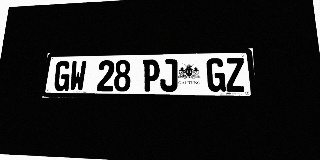2: (97, 60, 115, 91)
8: (114, 60, 131, 91)
G: (206, 58, 226, 92), (53, 61, 71, 91)
J: (160, 59, 177, 92)
P: (142, 59, 160, 91)
W: (69, 60, 87, 91)
Z: (225, 58, 246, 92)
